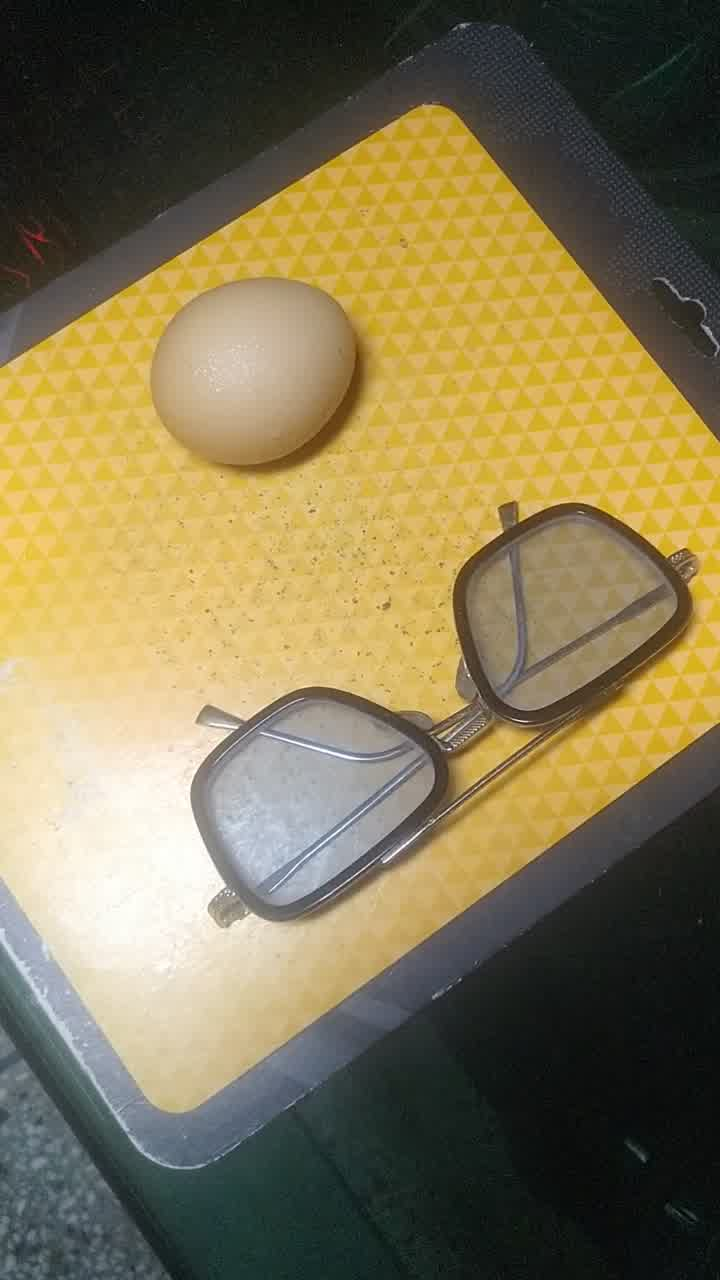egg: (134, 273, 366, 478)
sunglass: (191, 493, 708, 927)
